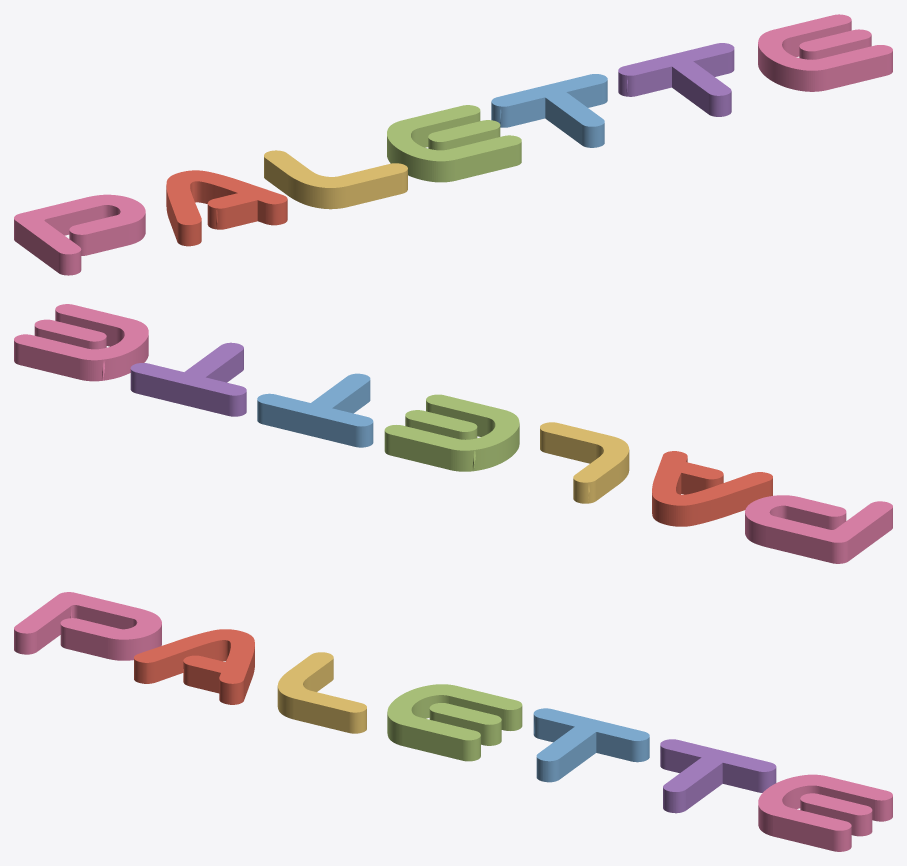
File: paletteU.glb
3 views of the same model, one above another, from view 1: azimuth 30°, elevation 25°; view 2: azimuth 150°, elevation 25°; view 3: azimuth 330°, elevation 25° (orthographic).
Visible parts, largest first — view 1: E.001, E, PaletteU, A, T.001, T, L; view 2: E, E.001, PaletteU, A, T, T.001, L; view 3: E, E.001, PaletteU, A, T, T.001, L.
Part boxes in pixels (<box>): E.001: <box>758,14,892,91</box>; E: <box>387,105,521,182</box>; PaletteU: <box>14,194,145,275</box>; A: <box>166,170,287,246</box>; T.001: <box>618,43,734,116</box>; T: <box>491,74,607,147</box>; L: <box>264,150,407,209</box>; E: <box>384,394,519,471</box>; E.001: <box>14,304,148,381</box>; PaletteU: <box>745,495,892,563</box>; A: <box>652,451,772,526</box>; T: <box>257,373,373,447</box>; T.001: <box>130,342,246,416</box>; L: <box>540,422,629,503</box>; E: <box>387,684,522,761</box>; E.001: <box>758,774,892,851</box>; PaletteU: <box>14,592,161,660</box>; A: <box>134,629,254,704</box>; T: <box>533,708,649,782</box>; T.001: <box>660,739,776,813</box>; L: <box>277,652,366,733</box>.
Size of the model in its own units: 9.92 by 0.24 by 1.18.
